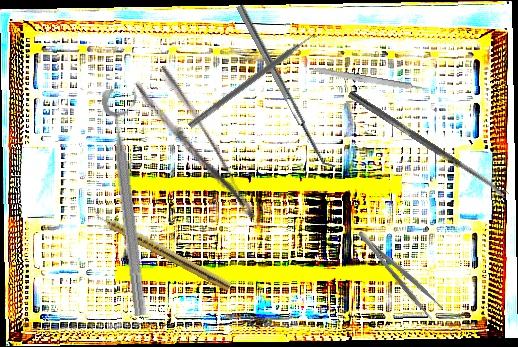Dressing Forceps: (133, 63, 259, 235), (355, 222, 445, 322)
Fixation Ring: (100, 86, 166, 317)
Handpiece: (89, 206, 234, 293)
Scalpel Handle: (307, 65, 429, 95)
Spatula Surgical: (235, 0, 338, 173), (187, 29, 321, 135)
Surgical Spoon: (346, 90, 510, 200)
